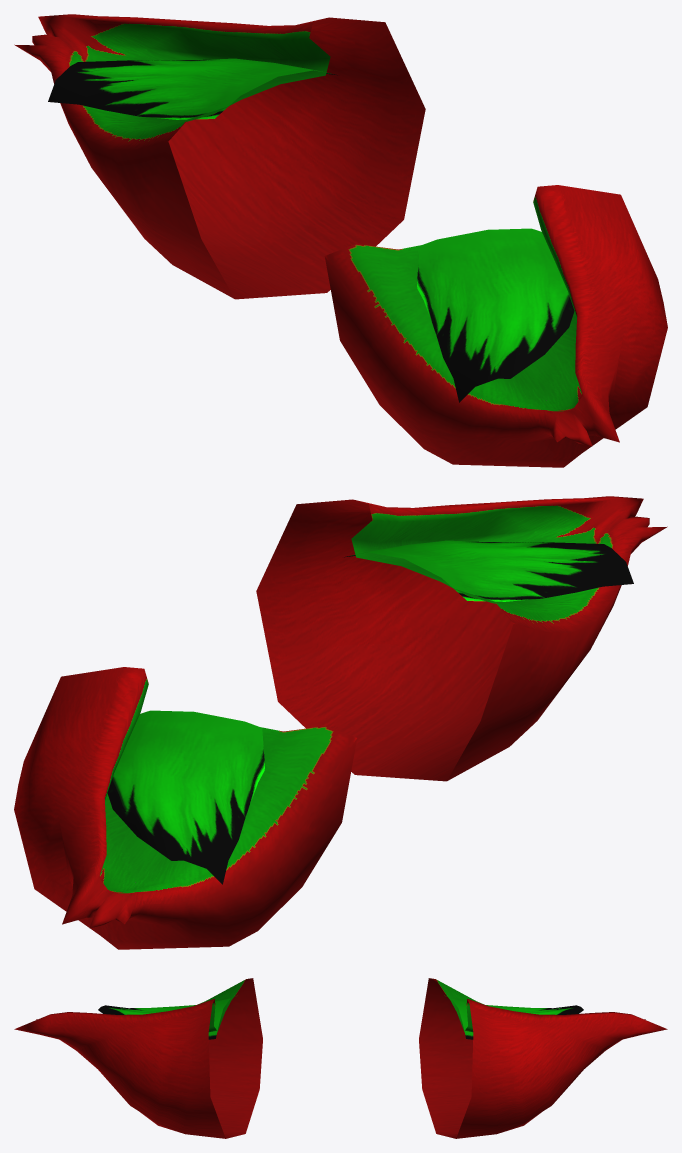
3 views of the same model, one above another, from view 1: azimuth 30°, elevation 25°; view 2: azimuth 150°, elevation 25°; view 3: azimuth 270°, elevation 25° (orthographic). The views are drawn at different scales.
Visible parts, largest first — view 1: L1227; view 2: L1227; view 3: L1227.
Part boxes in pixels (x1=…): L1227: x1=14, y1=14, x2=667, y2=467; L1227: x1=14, y1=496, x2=667, y2=949; L1227: x1=14, y1=978, x2=667, y2=1138.
Size of the model in its own units: 0.1916 by 0.1536 by 0.6537.
